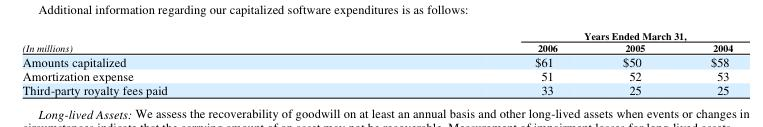table: (21, 29, 732, 96)
table column: (21, 29, 350, 96), (350, 29, 589, 96), (589, 29, 677, 96), (677, 29, 732, 96)
table column header: (21, 29, 732, 53)
table row: (21, 53, 732, 68), (21, 68, 732, 82), (21, 82, 732, 96), (21, 40, 732, 53), (21, 29, 732, 40)
table spanning cell: (21, 29, 350, 53), (350, 29, 732, 40)
